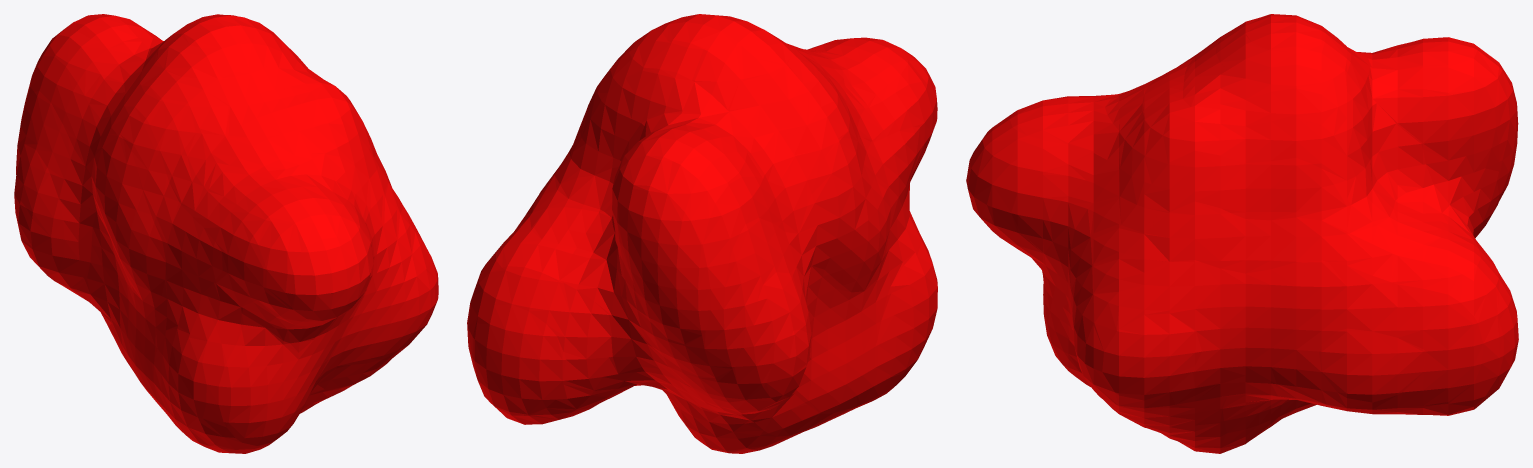
Rendered from yebV_coarse.dae.
The picture shows the model from 3 angles, left to right: view 1: azimuth 30°, elevation 25°; view 2: azimuth 150°, elevation 25°; view 3: azimuth 270°, elevation 25°; orthographic projection. The views are drawn at different scales.
Parts seen in each view (by area): view 1: yebV; view 2: yebV; view 3: yebV.
Boxes of the visible parts, x1,y1,x2,y2 form: yebV: (14,14,438,453); yebV: (467,14,937,453); yebV: (966,14,1518,453).
Bounding box in the file's own units: 25.77 × 32.93 × 39.18.
